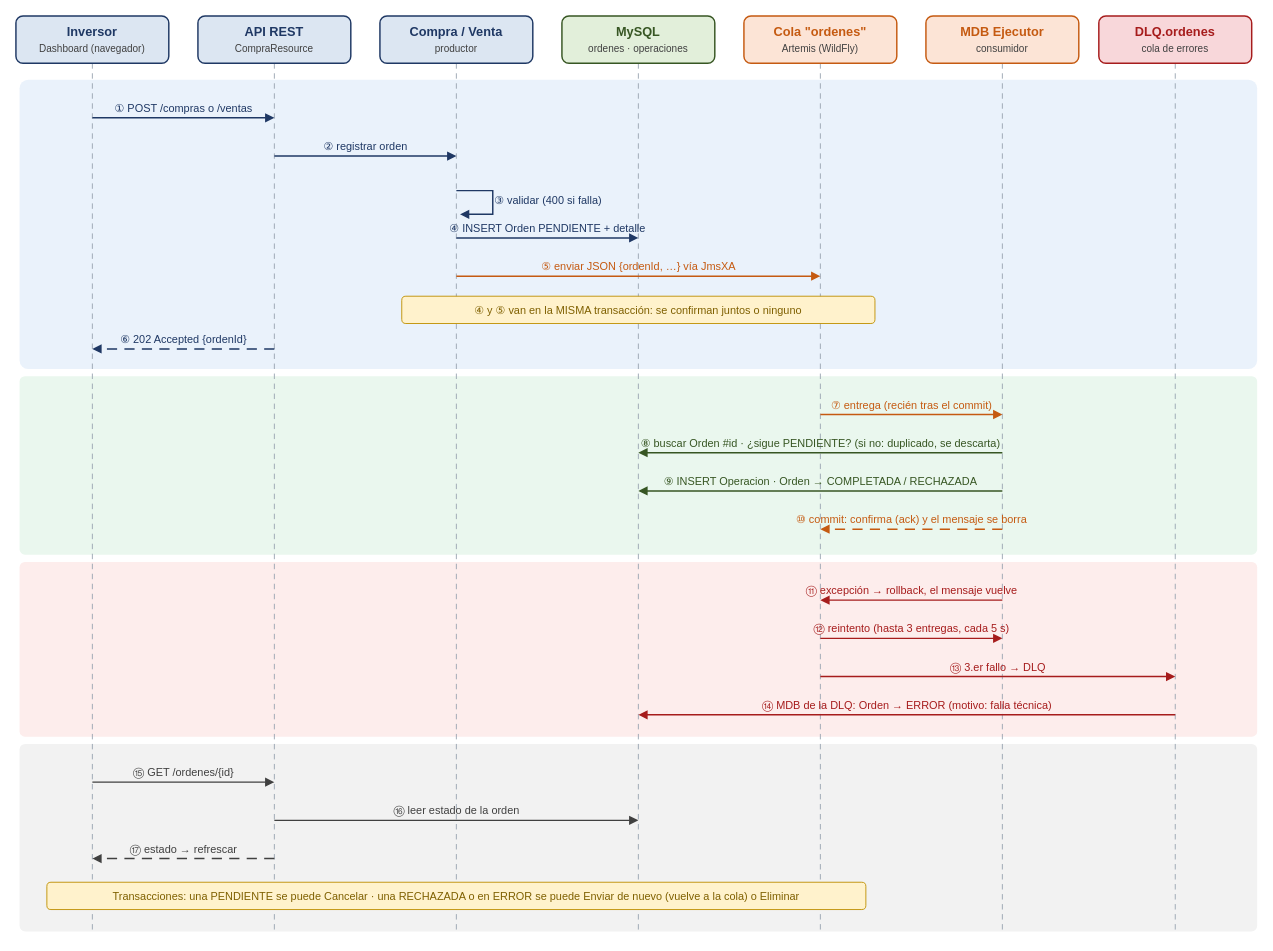
The diagram is 1273 pixels wide and 951 high, and some of its shapes have lost their labels. Here are the shapes that lost their labels. From the top down, the box of each, then its label:
(19, 79, 1257, 369): 1 · Aceptación de la orden — SÍNCRONO (el usuario espera)
(19, 376, 1257, 554): 2 · Ejecución — ASINCRÓNICO (del otro lado de la cola)
(19, 561, 1257, 736): 3 · Si hay un error técnico — reintentos, DLQ y estado ERROR
(19, 743, 1257, 931): 4 · Consulta del resultado — SÍNCRONO
